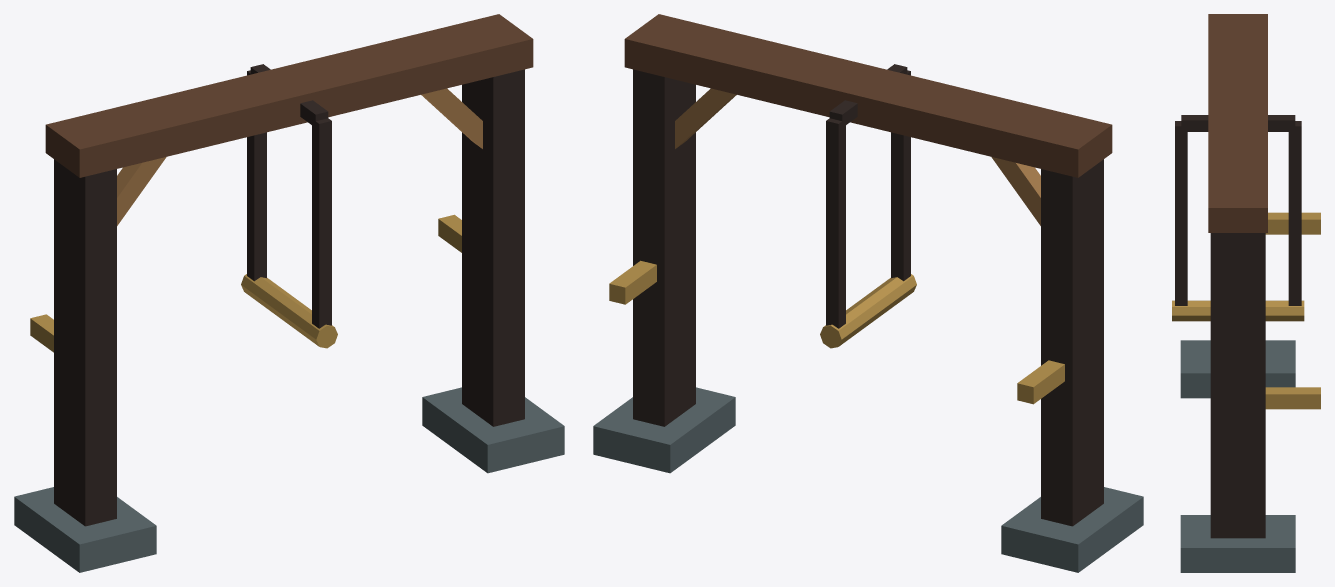
File: PirateCove_TidewheelFrame_Simple.glb
3 views of the same model, side by side, from view 1: azimuth 30°, elevation 25°; view 2: azimuth 150°, elevation 25°; view 3: azimuth 270°, elevation 25° (orthographic). The views are drawn at different scales.
Parts seen in each view (by area): view 1: PirateCove_TidewheelFrame_Simple; view 2: PirateCove_TidewheelFrame_Simple; view 3: PirateCove_TidewheelFrame_Simple.
Boxes of the visible parts, box(x1,y1,x2,y2) form: PirateCove_TidewheelFrame_Simple: box(14, 14, 564, 572); PirateCove_TidewheelFrame_Simple: box(593, 14, 1143, 572); PirateCove_TidewheelFrame_Simple: box(1172, 14, 1320, 572).
Bounding box in the file's own units: 5.35 × 4.3 × 1.62.
